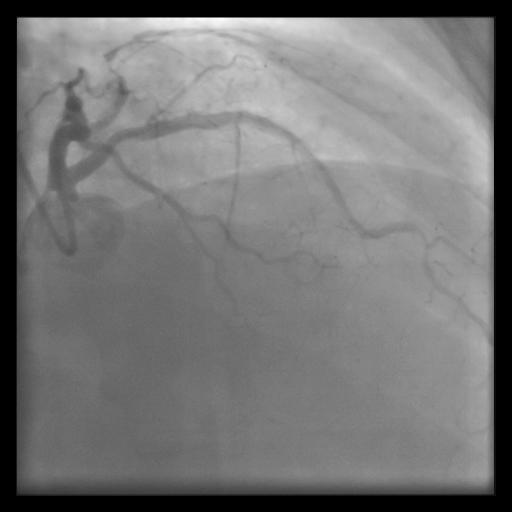Stenosis: (106, 127, 143, 146)
